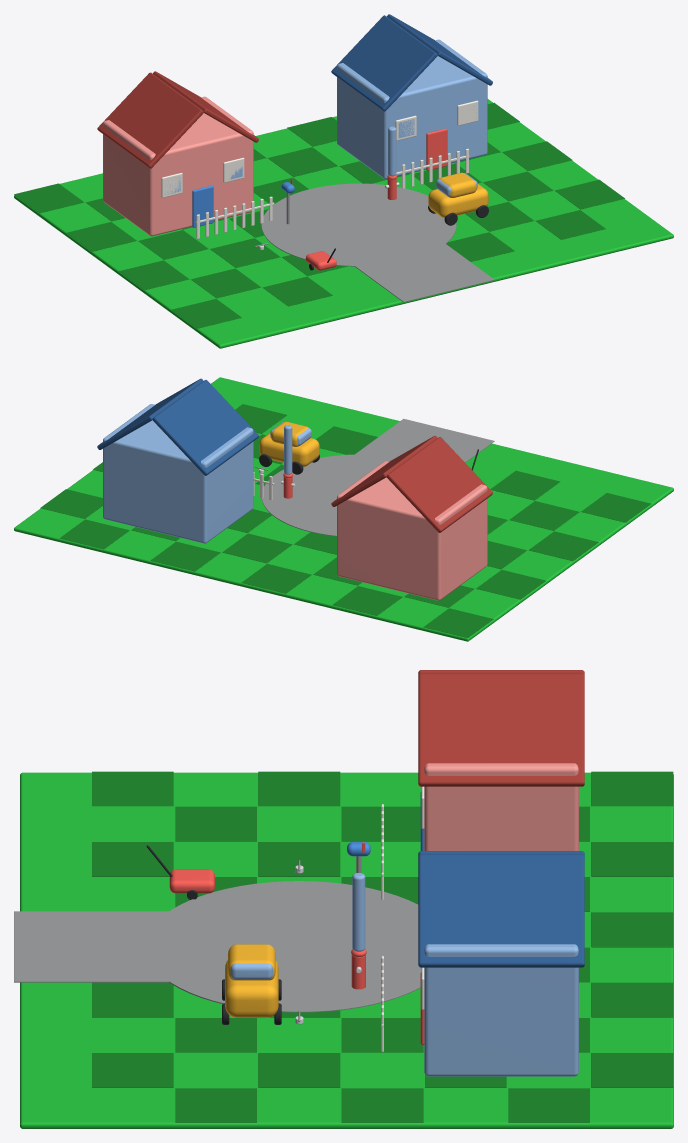
Rendered from suburban_cul_de_sac.glb.
The picture shows the model from 3 angles, top to bottom: view 1: azimuth 30°, elevation 25°; view 2: azimuth 150°, elevation 25°; view 3: azimuth 270°, elevation 25°; orthographic projection. The views are drawn at different scales.
Visible parts, largest first — view 1: Set, Flat_001, Flat_037, Flat_038, Part_080, Flat_002, Flat_012, Flat_035, Flat_003, Flat_004, Flat_005, Flat_008 (+14 smaller); view 2: Set, Flat_001, Flat_037, Flat_038, Flat_023, Flat_002, Flat_003, Flat_004, Flat_005, Flat_008, Flat_012, Flat_030 (+14 smaller); view 3: Flat_001, Set, Flat_037, Flat_038, Flat_023, Flat_002, Flat_004, Flat_016, Flat_005, Flat_008, Flat_026, Flat_009 (+18 smaller).
Boxes of the visible parts, x1=… form: Set: x1=97, y1=14, x2=492, y2=239; Flat_001: x1=14, y1=99, x2=673, y2=348; Flat_037: x1=261, y1=183, x2=456, y2=266; Flat_038: x1=351, y1=243, x2=494, y2=302; Part_080: x1=428, y1=183, x2=488, y2=217; Flat_002: x1=14, y1=183, x2=84, y2=213; Flat_012: x1=262, y1=276, x2=332, y2=306; Flat_035: x1=502, y1=141, x2=572, y2=170; Flat_003: x1=67, y1=222, x2=136, y2=251; Flat_004: x1=119, y1=260, x2=189, y2=289; Flat_005: x1=172, y1=299, x2=241, y2=328; Flat_008: x1=191, y1=268, x2=260, y2=298; Set: x1=97, y1=378, x2=492, y2=600; Flat_001: x1=14, y1=377, x2=673, y2=641; Flat_037: x1=261, y1=454, x2=395, y2=536; Flat_038: x1=352, y1=418, x2=494, y2=463; Flat_023: x1=150, y1=541, x2=220, y2=571; Flat_002: x1=423, y1=608, x2=493, y2=637; Flat_003: x1=476, y1=570, x2=545, y2=599; Flat_004: x1=529, y1=531, x2=598, y2=560; Flat_005: x1=581, y1=493, x2=651, y2=522; Flat_008: x1=509, y1=501, x2=579, y2=530; Flat_012: x1=490, y1=470, x2=560, y2=500; Flat_030: x1=59, y1=519, x2=129, y2=549; Flat_001: x1=20, y1=772, x2=673, y2=1128; Set: x1=381, y1=670, x2=584, y2=1076; Flat_037: x1=148, y1=881, x2=421, y2=1012; Flat_038: x1=14, y1=911, x2=180, y2=982; Flat_023: x1=591, y1=982, x2=673, y2=1017; Flat_002: x1=591, y1=771, x2=673, y2=806; Flat_004: x1=258, y1=771, x2=340, y2=806; Flat_016: x1=591, y1=912, x2=673, y2=947; Flat_005: x1=92, y1=771, x2=173, y2=806; Flat_008: x1=175, y1=806, x2=256, y2=841; Flat_026: x1=92, y1=982, x2=173, y2=1017; Flat_009: x1=591, y1=842, x2=673, y2=876.
Bounding box in the file's own units: 14 × 3.55 × 11.1.
